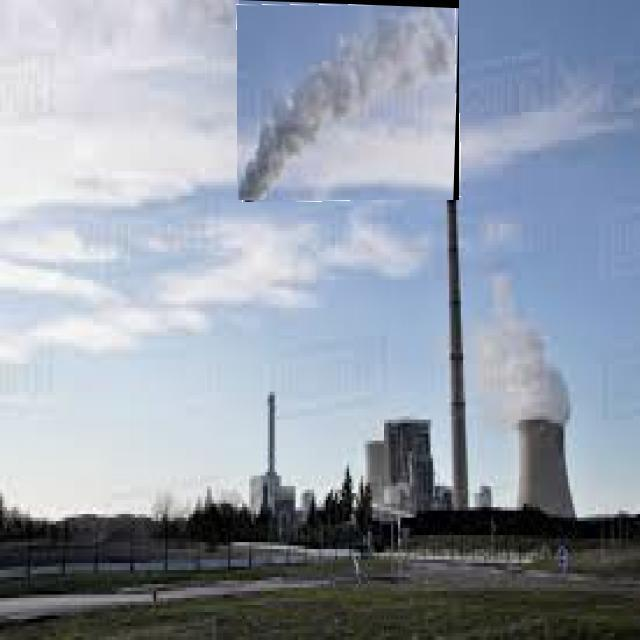smoke: (245, 76, 350, 194), (322, 13, 454, 102)
